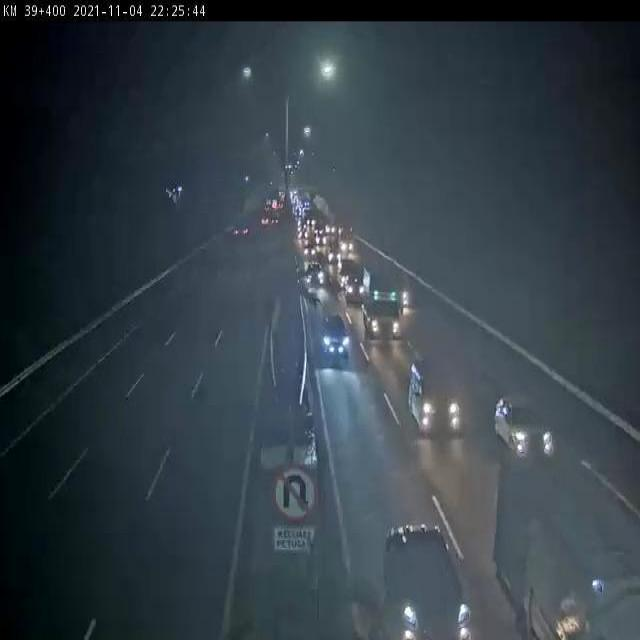car: (382, 525, 477, 640), (407, 364, 468, 444), (492, 394, 554, 466), (320, 314, 358, 366), (344, 266, 368, 306), (301, 261, 327, 291), (326, 239, 342, 269)
truck-m-: (361, 265, 406, 343)
